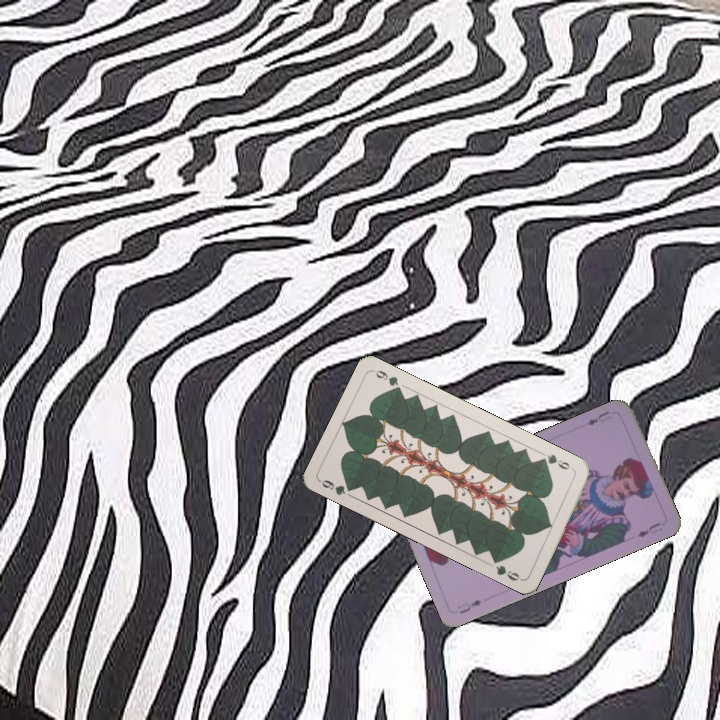EU: (579, 407, 614, 429), (453, 596, 484, 616)
G9: (537, 450, 577, 474), (316, 476, 357, 498)
